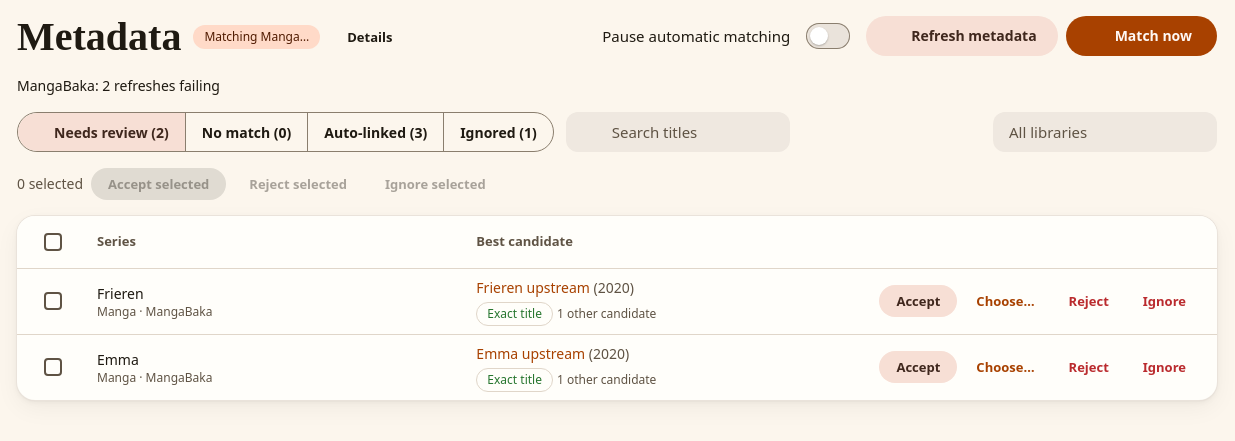
Test: MetadataPage › accepts the selected series and keeps the ones that failed, with their error
Click the checkbox next to "Series" at (53, 242), box [44, 233, 62, 251]
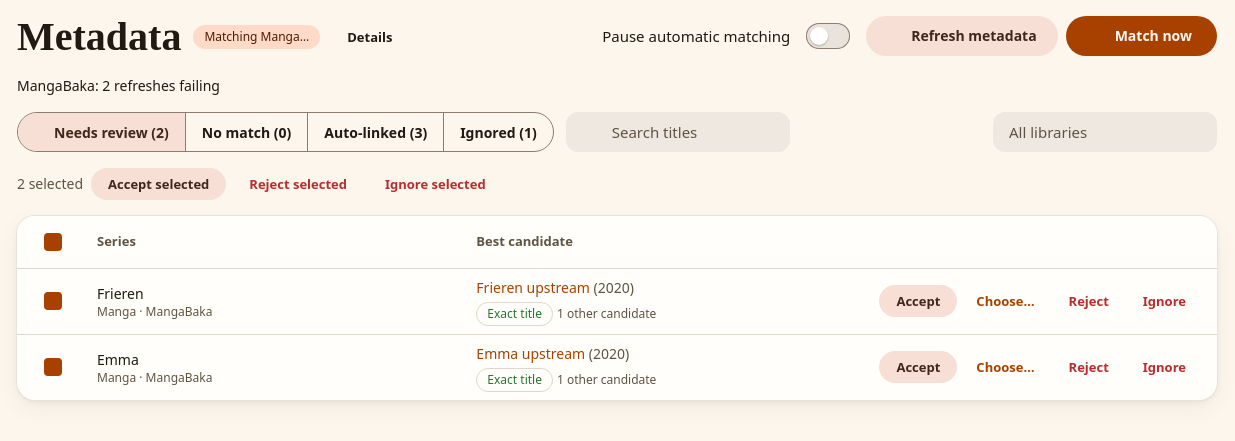
Click the button "Accept selected" at (159, 184), box [91, 168, 226, 200]
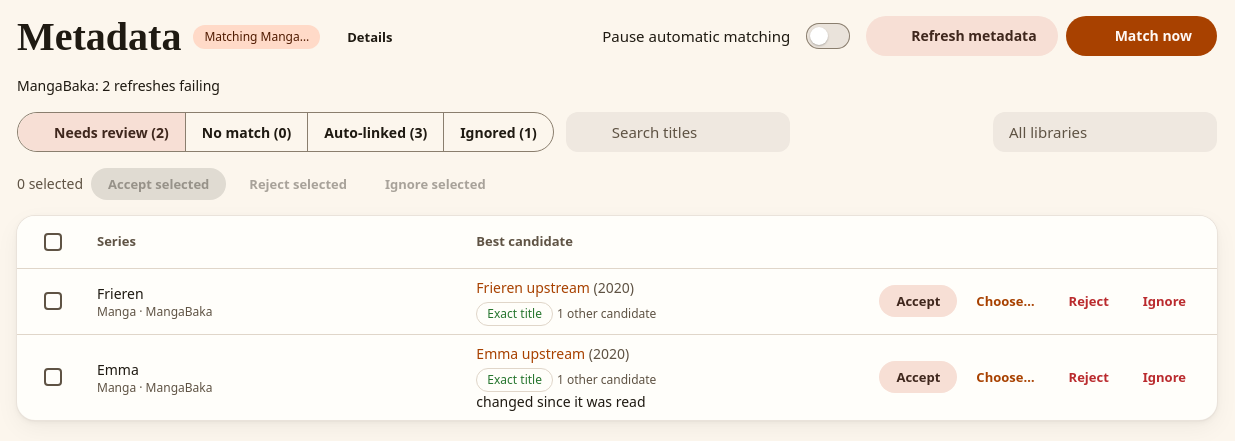
Expected: the text "changed since it was read" is not shown
Now the row that starts with "Emma" shows "changed since it was read", box [476, 392, 646, 410]
Now the text "0 selected" is shown, box [17, 174, 83, 194]
